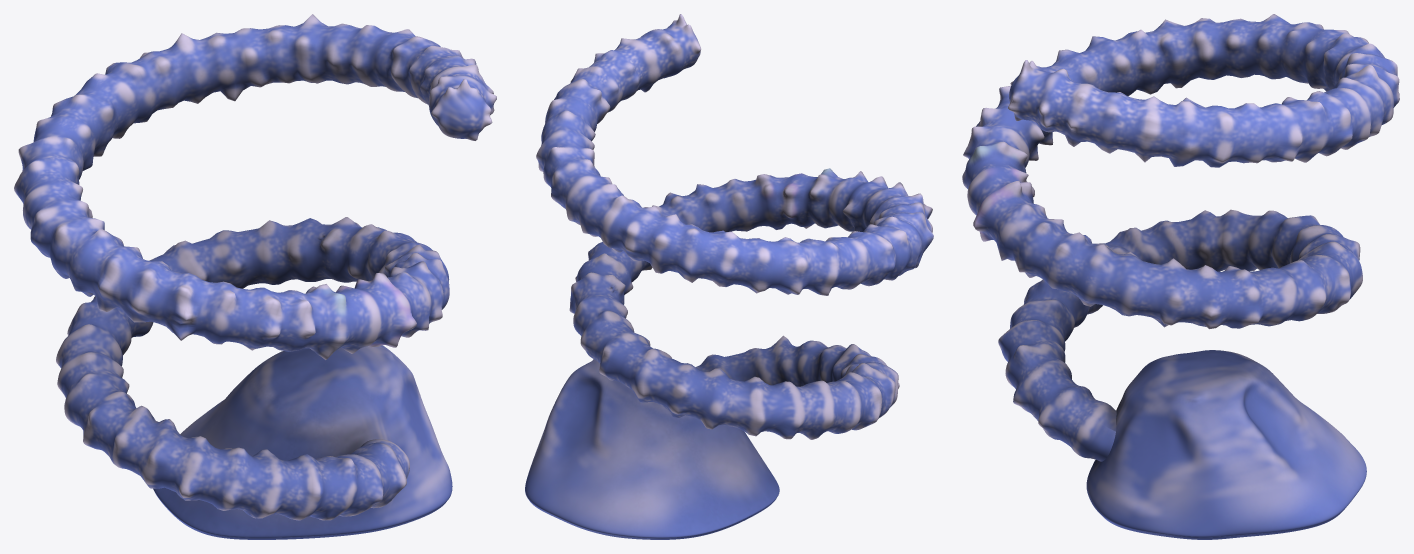
File: coralespiral.glb
3 renders of one model, left to right at view 1: azimuth 30°, elevation 25°; view 2: azimuth 150°, elevation 25°; view 3: azimuth 270°, elevation 25°, orthographic. The views are drawn at different scales.
Parts seen in each view (by area): view 1: 20943_Spiral_Wire_Coral_v1_NEW; view 2: 20943_Spiral_Wire_Coral_v1_NEW; view 3: 20943_Spiral_Wire_Coral_v1_NEW.
Boxes of the visible parts, bbox=[...] form: 20943_Spiral_Wire_Coral_v1_NEW: bbox=[14, 14, 496, 539]; 20943_Spiral_Wire_Coral_v1_NEW: bbox=[525, 14, 933, 539]; 20943_Spiral_Wire_Coral_v1_NEW: bbox=[962, 14, 1399, 539].
Bounding box in the file's own units: 1.72 × 1.87 × 1.64.
1 material, 1 textured.
